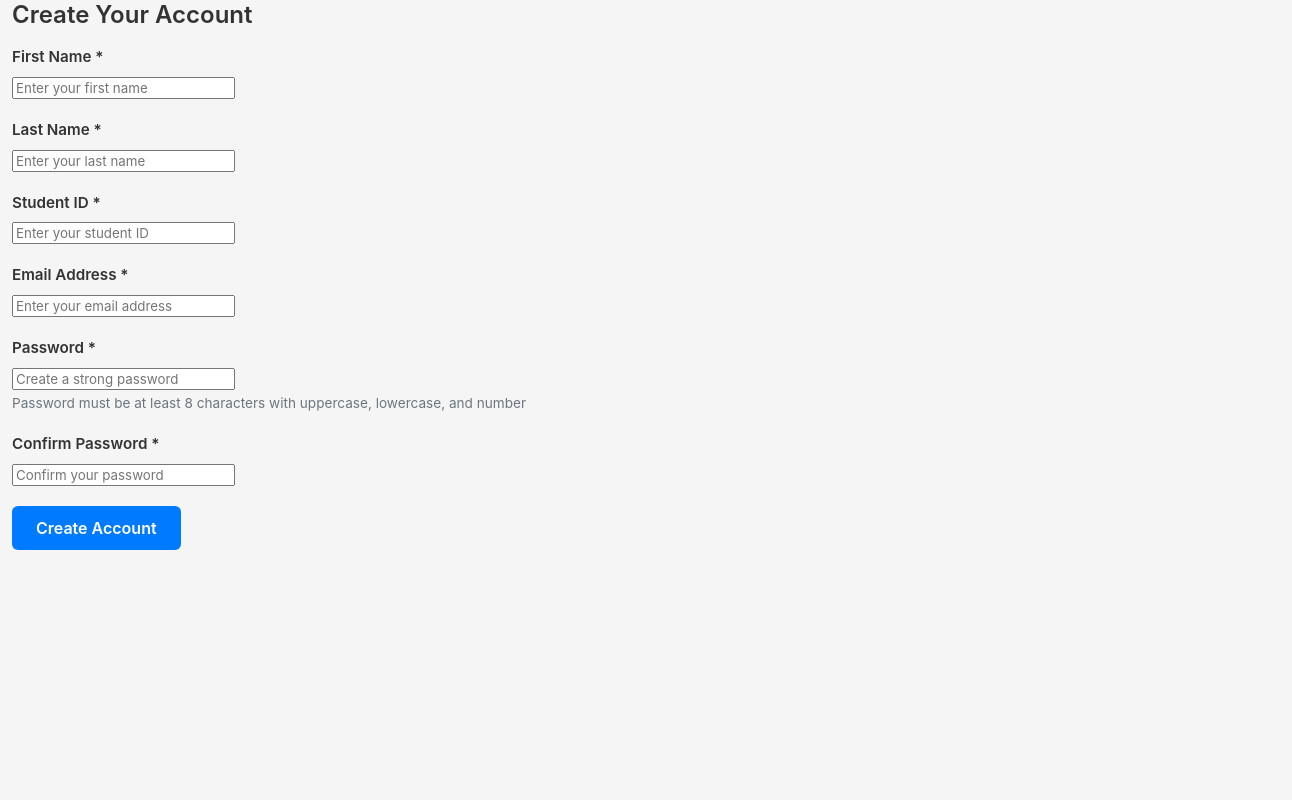
Test: RegisterForm › displays validation error for weak password
Type "weak" into the password field labelled "Password *" at (124, 379), box left=12, top=368, right=235, bottom=390
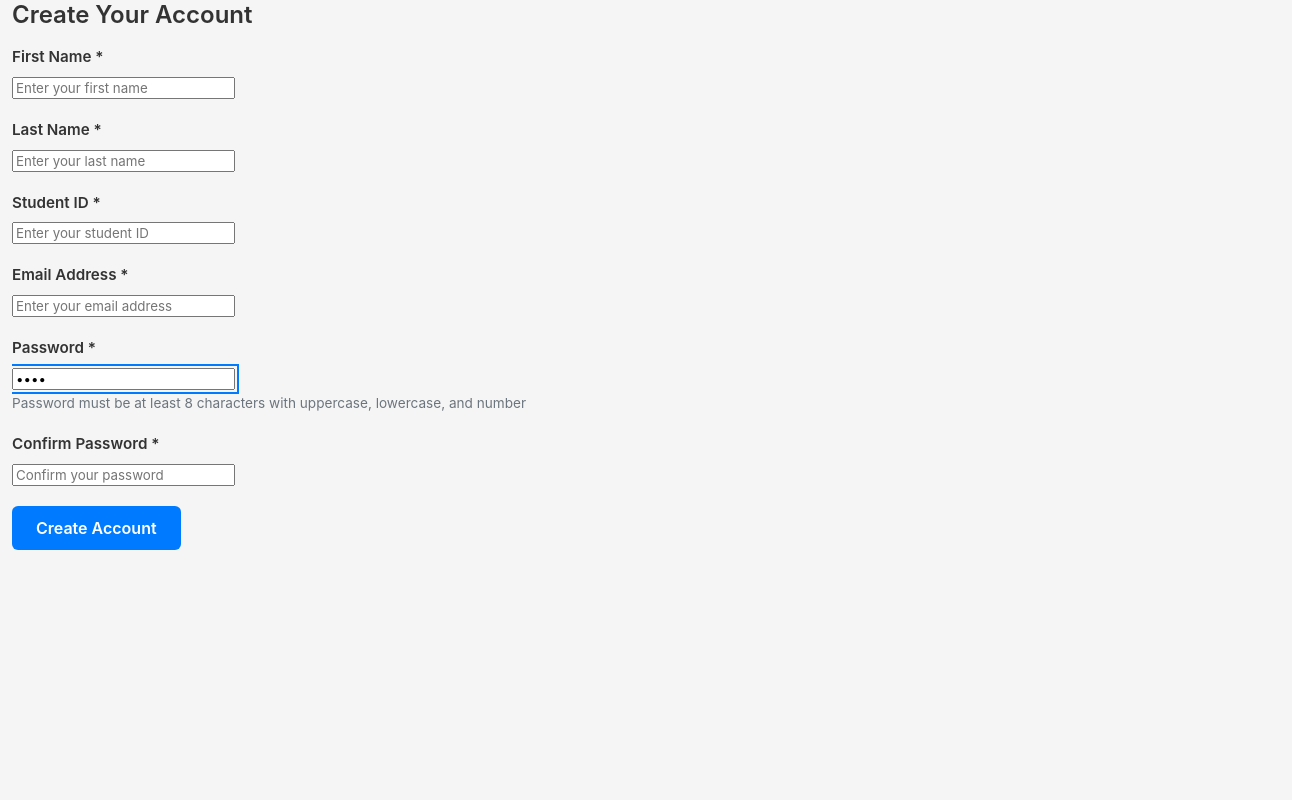
Click the button "Create Account" at (96, 528), box left=12, top=506, right=181, bottom=550
(page scrolled)
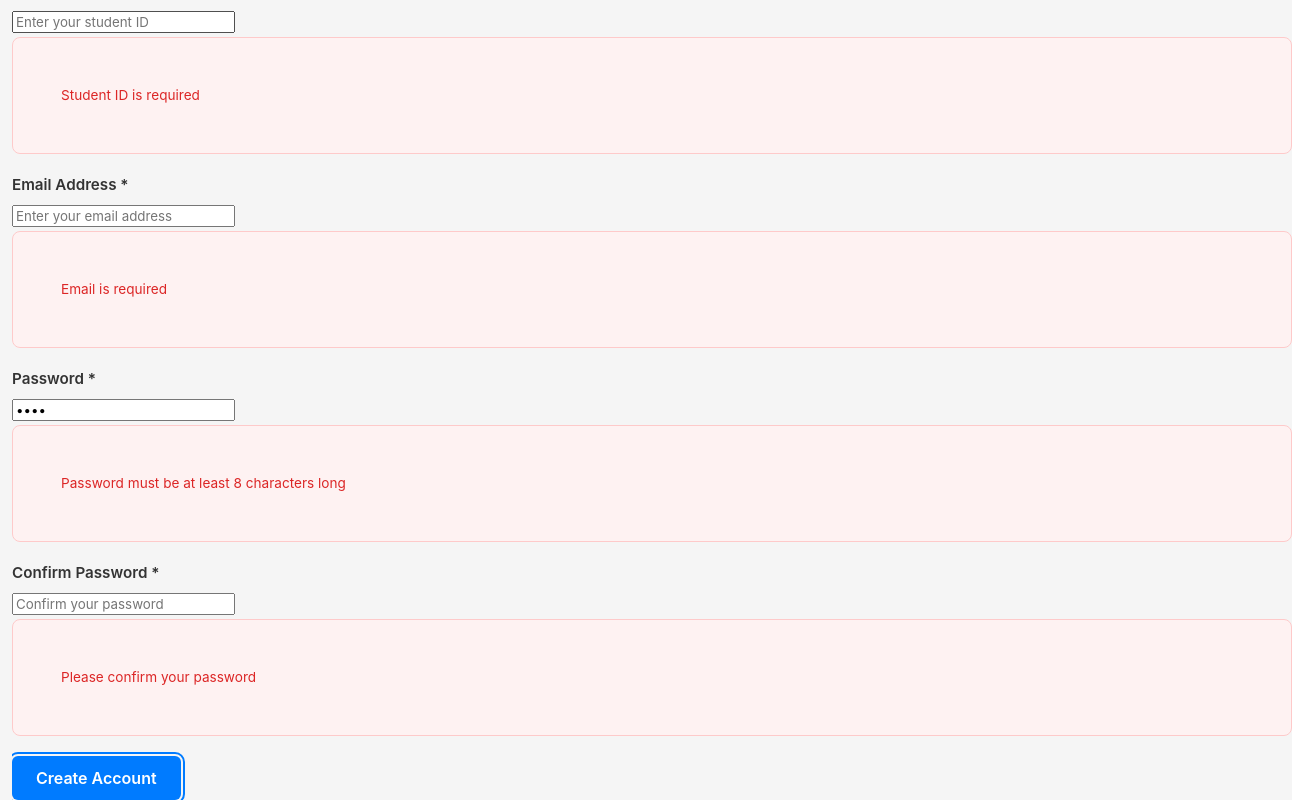
Check: the text "Password must be at least 8 characters long" is shown, box left=12, top=425, right=1291, bottom=542
